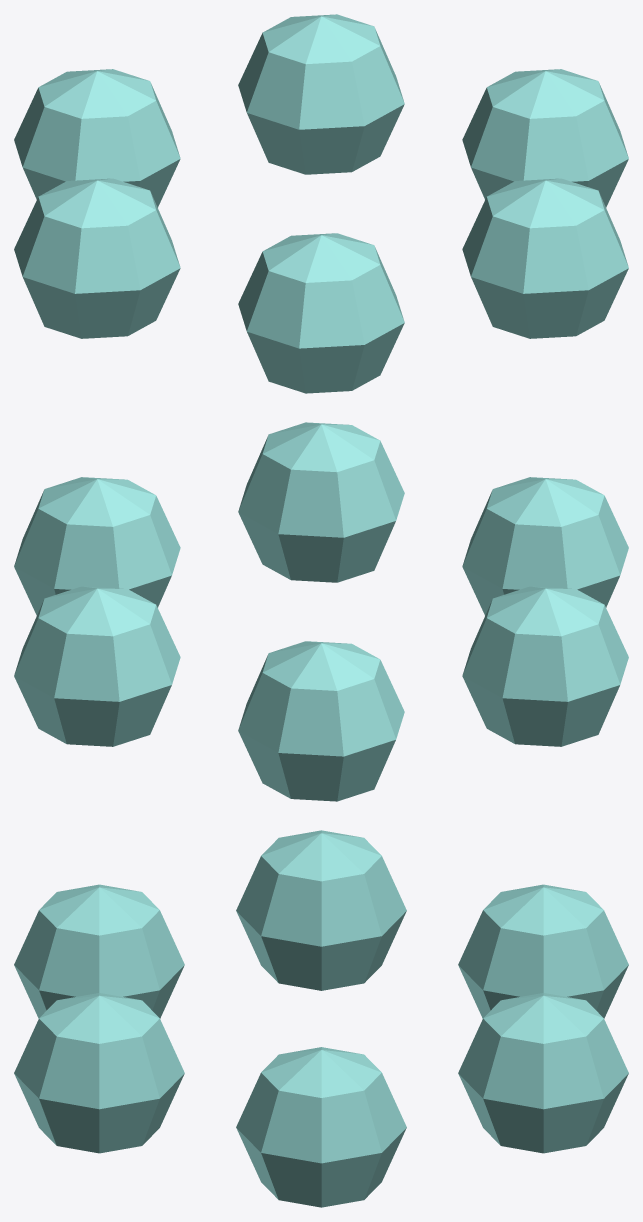
The model's file is simbolo_6_copo.glb.
The picture shows the model from 3 angles, top to bottom: view 1: azimuth 30°, elevation 25°; view 2: azimuth 150°, elevation 25°; view 3: azimuth 270°, elevation 25°; orthographic projection.
Visible parts, largest first — view 1: simbolo_6_copo; view 2: simbolo_6_copo; view 3: simbolo_6_copo.
Boxes of the visible parts, x1,y1,x2,y2 form: simbolo_6_copo: (14, 14, 628, 393); simbolo_6_copo: (14, 422, 628, 801); simbolo_6_copo: (14, 830, 628, 1207).
Size of the model in its own units: 0.88 by 0.22 by 0.7916.
